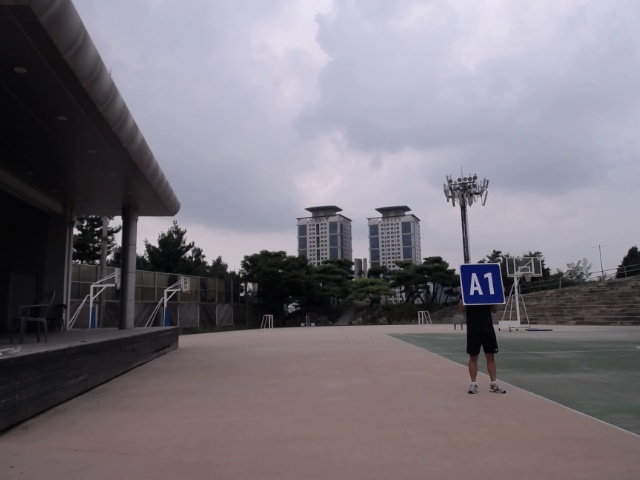delivery_a1: (460, 264, 505, 304)
